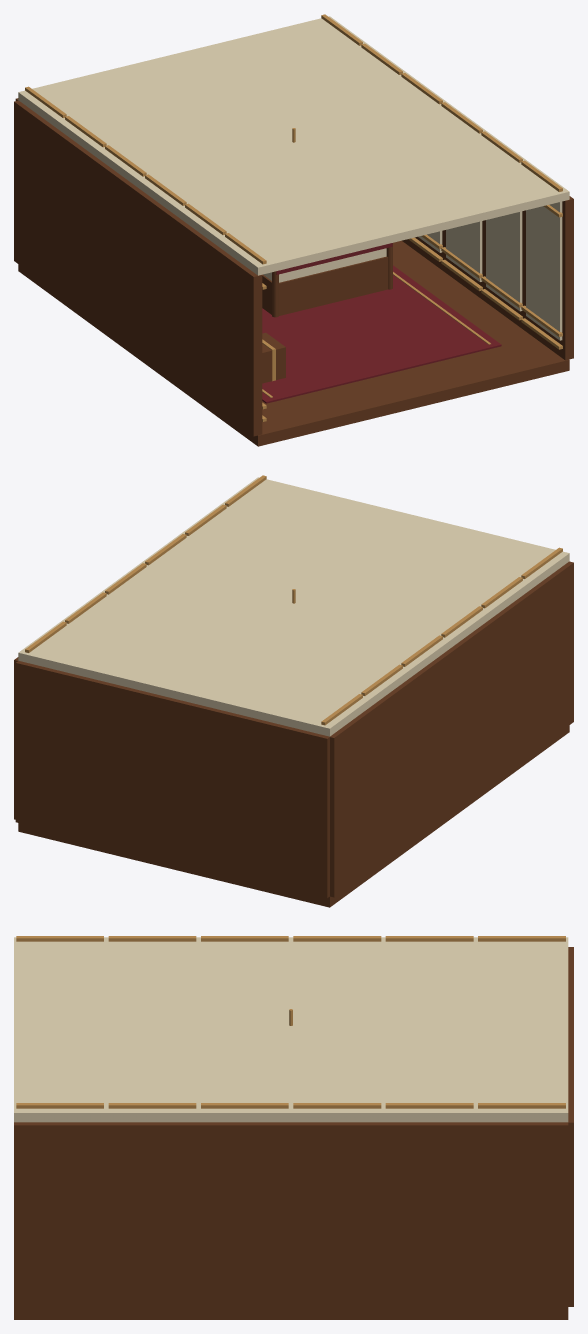
The model's file is suite.glb.
3 renders of one model, top to bottom at view 1: azimuth 30°, elevation 25°; view 2: azimuth 150°, elevation 25°; view 3: azimuth 270°, elevation 25°, orthographic. The views are drawn at different scales.
Visible parts, largest first — view 1: SUITE 10 | Linen and plaster, SUITE 09 | Carved dark oak, SUITE 11 | Burgundy velvet, SUITE 05 | Brushed brass; view 2: SUITE 09 | Carved dark oak, SUITE 10 | Linen and plaster, SUITE 05 | Brushed brass; view 3: SUITE 09 | Carved dark oak, SUITE 10 | Linen and plaster, SUITE 05 | Brushed brass.
Boxes of the visible parts, bbox=[...] form: SUITE 10 | Linen and plaster: bbox=[18, 16, 569, 340]; SUITE 09 | Carved dark oak: bbox=[14, 98, 573, 446]; SUITE 11 | Burgundy velvet: bbox=[262, 243, 501, 403]; SUITE 05 | Brushed brass: bbox=[25, 14, 562, 421]; SUITE 09 | Carved dark oak: bbox=[14, 561, 573, 907]; SUITE 10 | Linen and plaster: bbox=[18, 477, 569, 736]; SUITE 05 | Brushed brass: bbox=[25, 475, 562, 725]; SUITE 09 | Carved dark oak: bbox=[14, 947, 573, 1319]; SUITE 10 | Linen and plaster: bbox=[14, 937, 568, 1122]; SUITE 05 | Brushed brass: bbox=[16, 936, 565, 1108].
Size of the model in its own units: 9.25 by 5.31 by 12.12.
